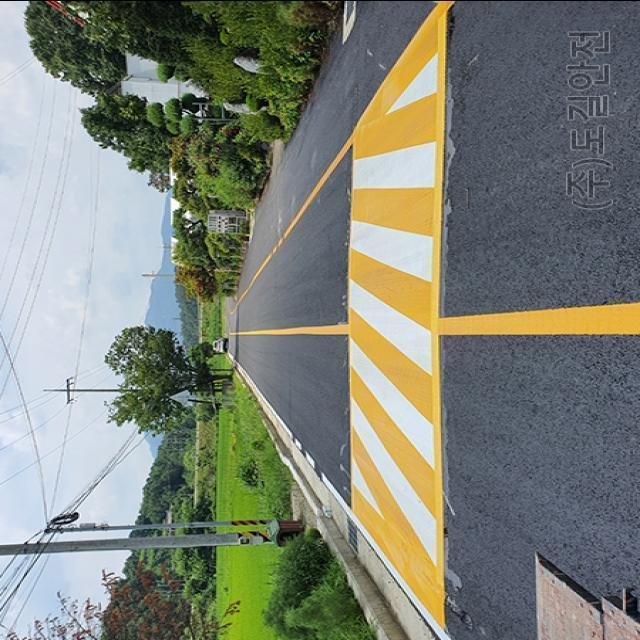speedbreaker: (343, 0, 457, 640)
